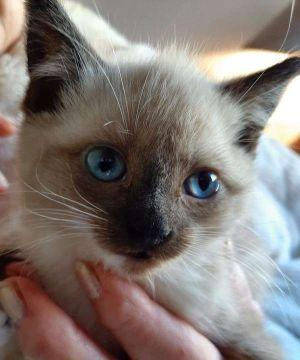siamese: (9, 1, 299, 301)
